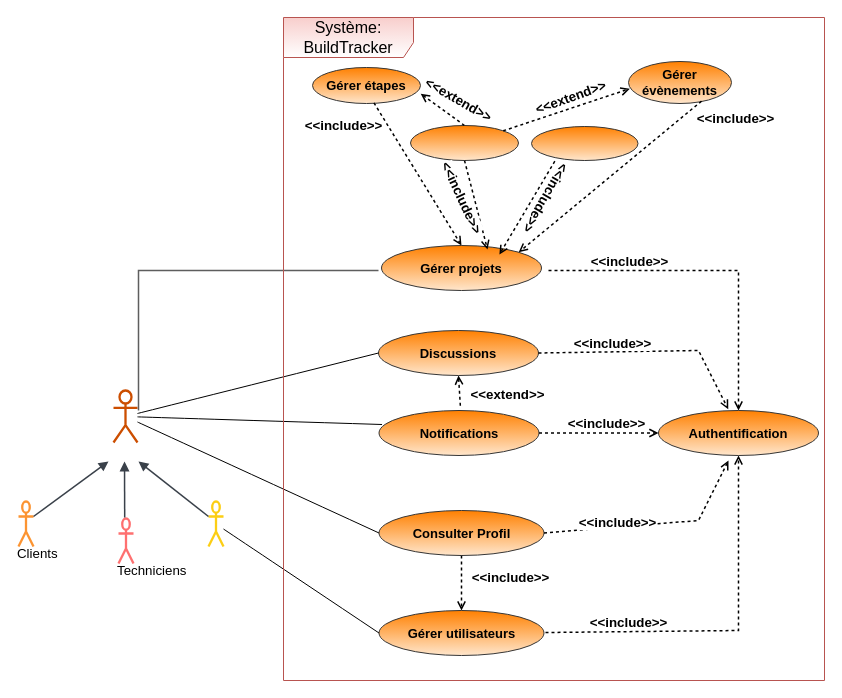
Image size: 842x698. Some labels were removed from this diagram. Each missing label, with the centre of its shape:
"Gérer fichiers" belongs at pixel 464 142.
"Gérer rapports" belongs at pixel 584 143.
"SuperAdmin" belongs at pixel 215 523.
"Utilisateurs" belongs at pixel 125 416.
